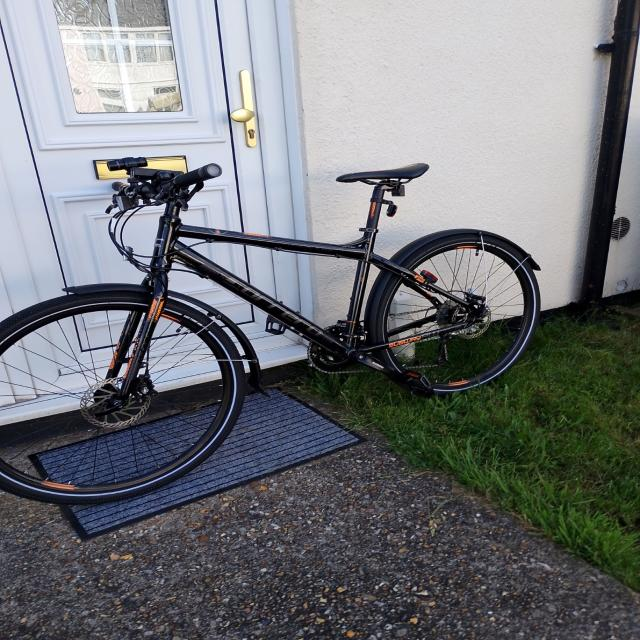bicycle: (0, 156, 542, 504)
